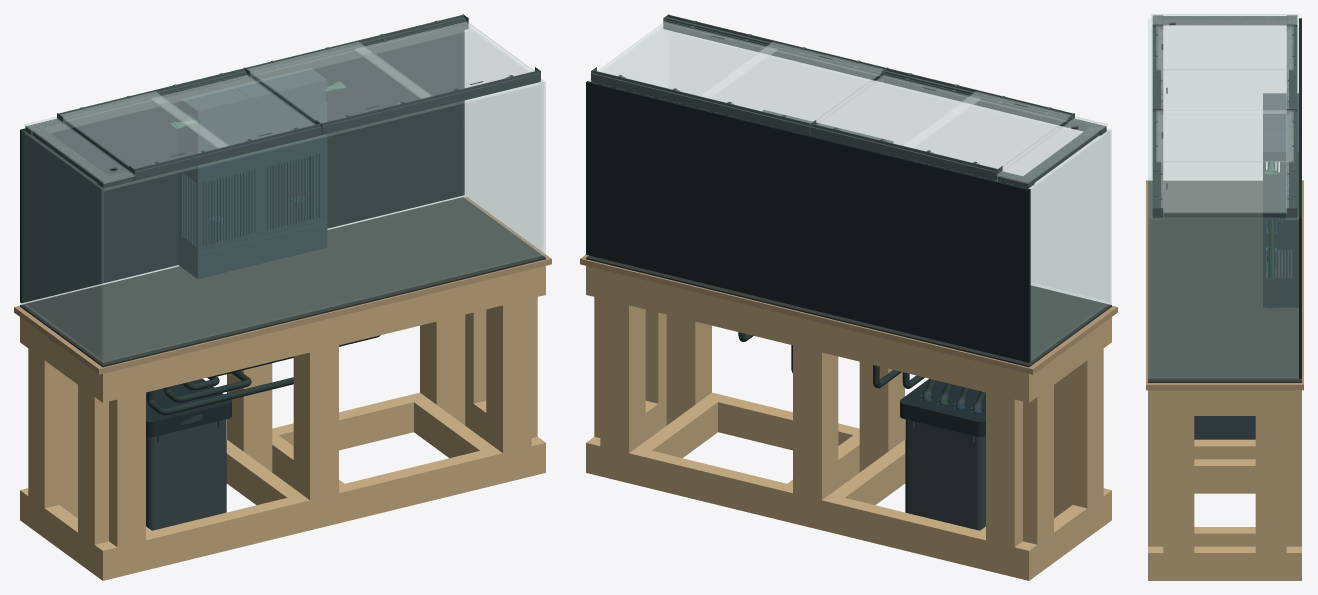
The model's file is aquarium.glb.
3 renders of one model, left to right at view 1: azimuth 30°, elevation 25°; view 2: azimuth 150°, elevation 25°; view 3: azimuth 270°, elevation 25°, orthographic. The views are drawn at different scales.
Parts seen in each view (by area): view 1: Timber frame member (×21), Front glass, Rear glass / black film, Support mat, Acrylic cover panel (×5), Screened housing panel (×7), Left glass, Cover support / guide (×6), Right glass, Hypermax LINK reference (×2), OSB top, Intake hose (×2); view 2: Timber frame member (×21), Rear glass / black film, Acrylic cover panel (×5), Left glass, Front glass, Cover support / guide (×5), Hypermax LINK reference (×2), Support mat, OSB top; view 3: Acrylic cover panel (×5), Timber frame member (×13), Support mat, Right glass, Cover support / guide (×17), Screened housing panel (×5), OSB top, Hypermax LINK reference, Front glass, Rear glass / black film, Return riser.
Boxes of the visible parts, x1,y1,x2,y2 form: Timber frame member (×21): (20, 266, 545, 580); Front glass: (101, 81, 545, 362); Rear glass / black film: (20, 30, 464, 303); Support mat: (20, 197, 545, 367); Acrylic cover panel (×5): (24, 21, 534, 183); Screened housing panel (×7): (178, 68, 327, 278); Left glass: (22, 131, 103, 360); Cover support / guide (×6): (32, 14, 540, 190); Right glass: (464, 79, 543, 253); Hypermax LINK reference (×2): (146, 378, 231, 530); OSB top: (14, 196, 551, 374); Intake hose (×2): (147, 371, 293, 415); Timber frame member (×21): (586, 266, 1111, 580); Rear glass / black film: (586, 81, 1030, 362); Acrylic cover panel (×5): (597, 21, 1107, 183); Left glass: (1029, 130, 1109, 360); Front glass: (816, 81, 1111, 302); Cover support / guide (×5): (591, 14, 1099, 179); Hypermax LINK reference (×2): (900, 378, 985, 530); Support mat: (586, 255, 1111, 367); OSB top: (580, 255, 1117, 374); Acrylic cover panel (×5): (1151, 14, 1298, 213); Timber frame member (×13): (1148, 390, 1301, 580); Support mat: (1148, 181, 1301, 382); Right glass: (1151, 218, 1298, 378); Cover support / guide (×17): (1151, 16, 1298, 219); Screened housing panel (×5): (1263, 93, 1298, 307); OSB top: (1146, 180, 1303, 390); Hypermax LINK reference: (1194, 416, 1255, 439); Front glass: (1148, 18, 1150, 378); Rear glass / black film: (1299, 18, 1301, 378); Return riser: (1269, 219, 1273, 277).
Size of the model in its own units: 1.89 by 1.6 by 0.615.
